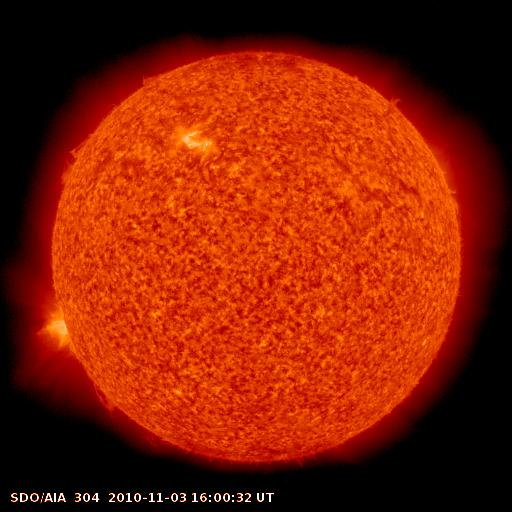prominence: (46, 122, 104, 199), (83, 373, 132, 419), (438, 178, 484, 225), (374, 83, 413, 119), (128, 67, 166, 93)
